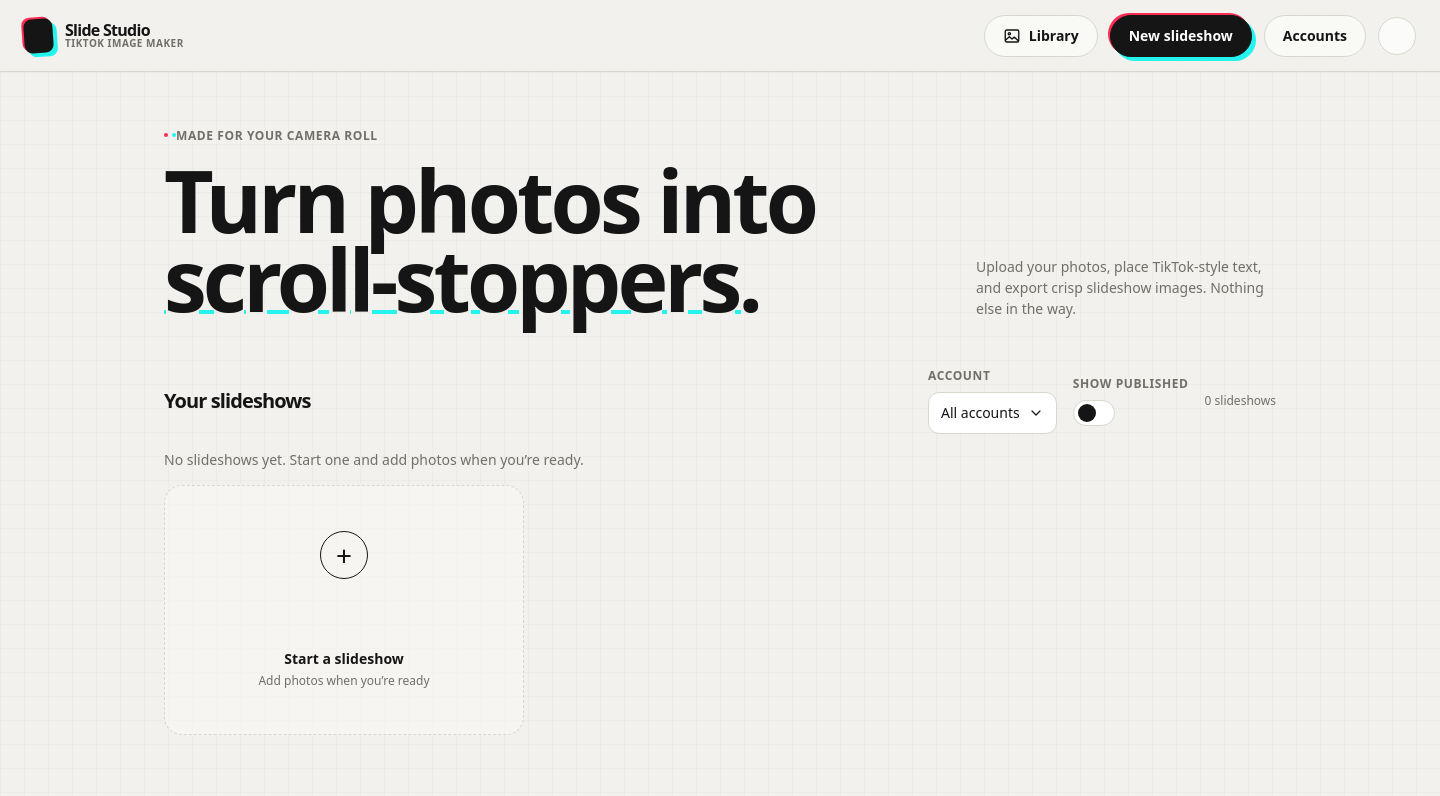
reaches the accounts screen from a header link
Click the link "Accounts". click: point(1315, 36)
box: [1264,14,1366,56]
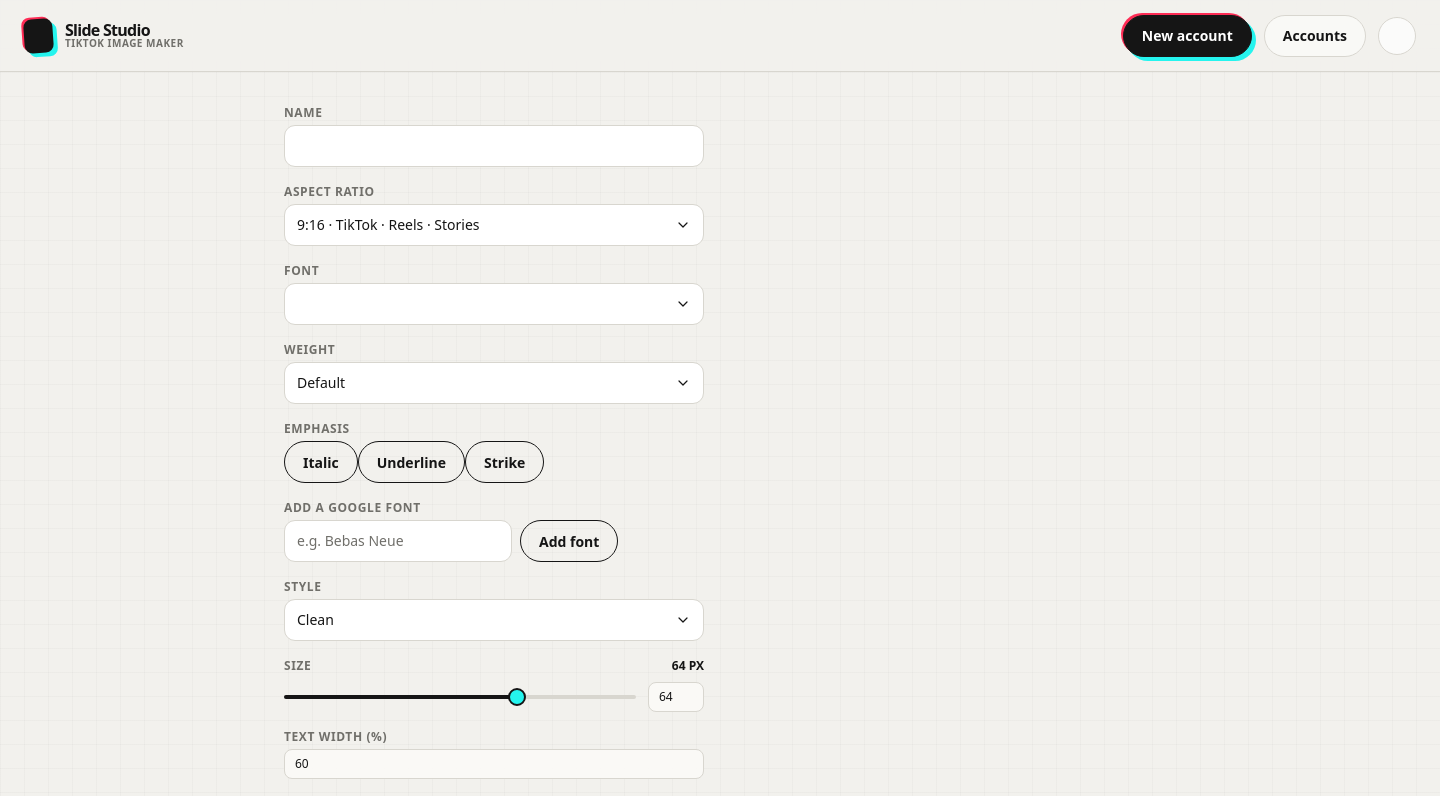
Check: the button "New account" is shown, box [1123,14,1252,56]
